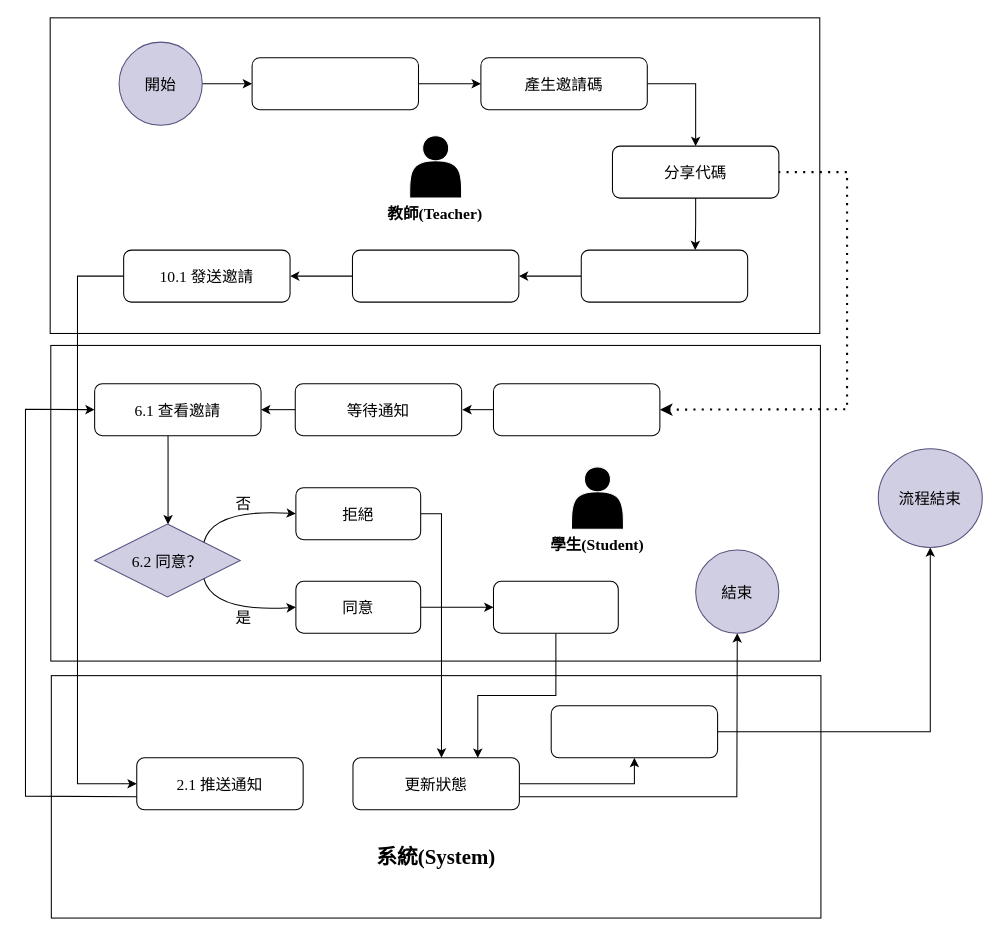
The diagram is 1000 pixels wide and 937 high, and some of its shapes have lost their labels. Each missing label, with the box of its shape:
13.1 建立班級: (251, 57, 418, 110)
2.2 通知教師: (550, 705, 718, 758)
6.3 設定: (492, 580, 618, 633)
9.1 輸入代碼: (492, 383, 660, 436)
勾選學生: (351, 249, 519, 302)
查看名單: (580, 249, 748, 302)
